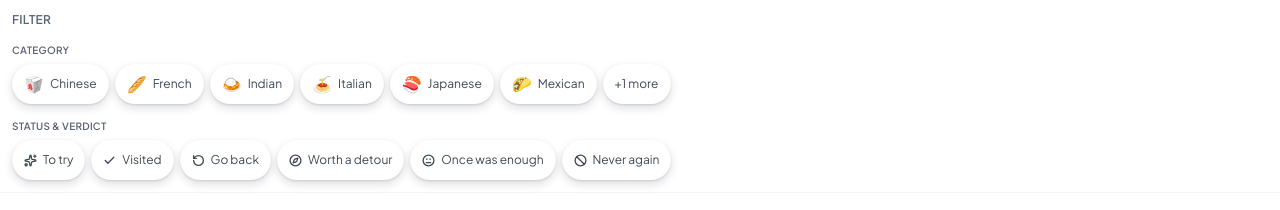
Test: FilterBar › collapses cuisines beyond 6 behind a "+N more" control, expandable via "Collapse"
This screenshot has width=1280, height=210.
Check: the button "Thai" is not shown
Click the button "+1 more".
click(636, 84)  # box [602,64,670,104]
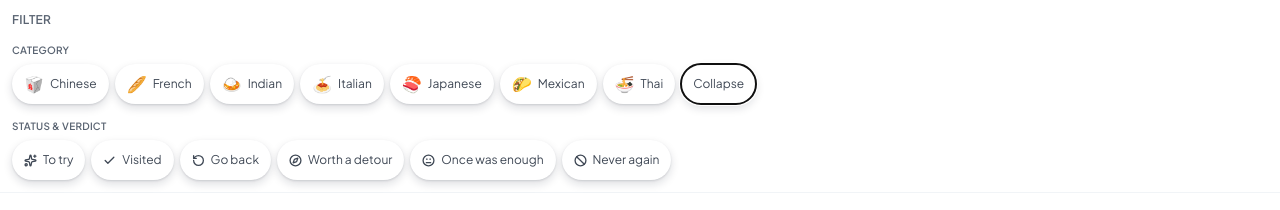
Check: the button "Collapse" is expanded, box [681,64,756,104]
Check: the button "🍜 Thai" is shown, box [602,64,675,104]
